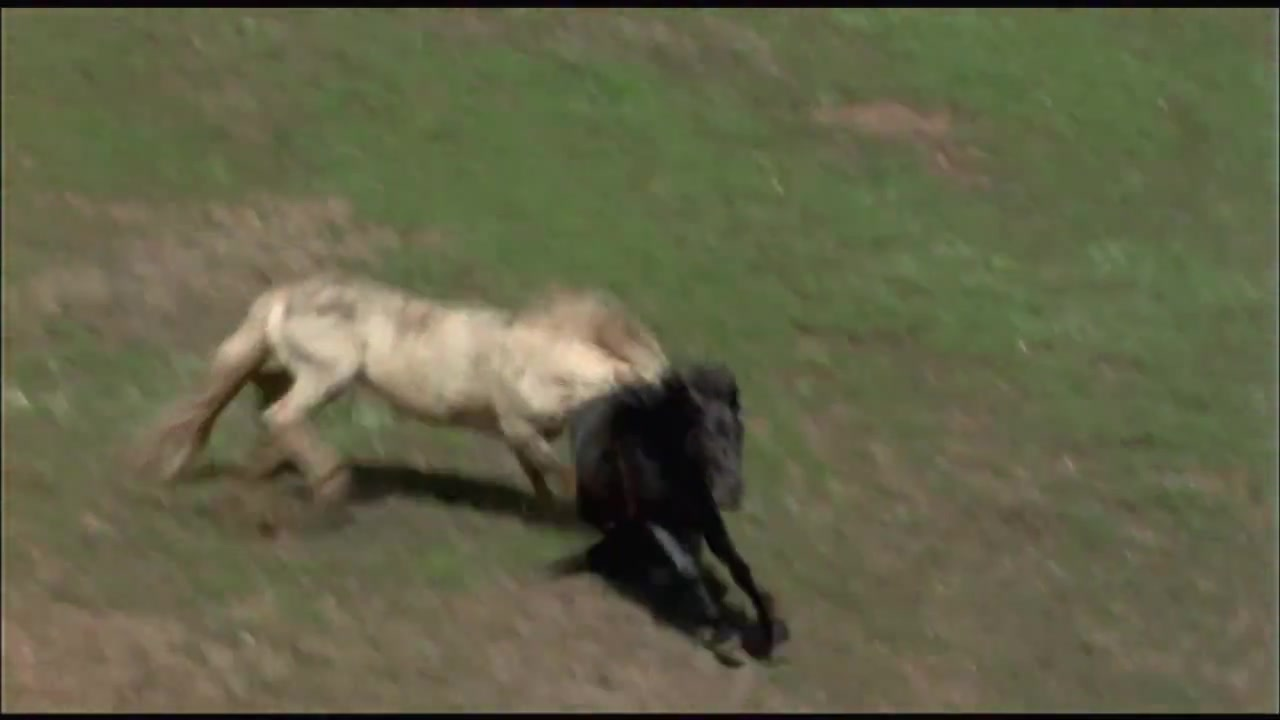horse: (129, 267, 670, 531)
